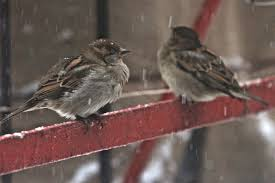home_sparrow: (0, 37, 133, 139), (147, 23, 265, 112)
